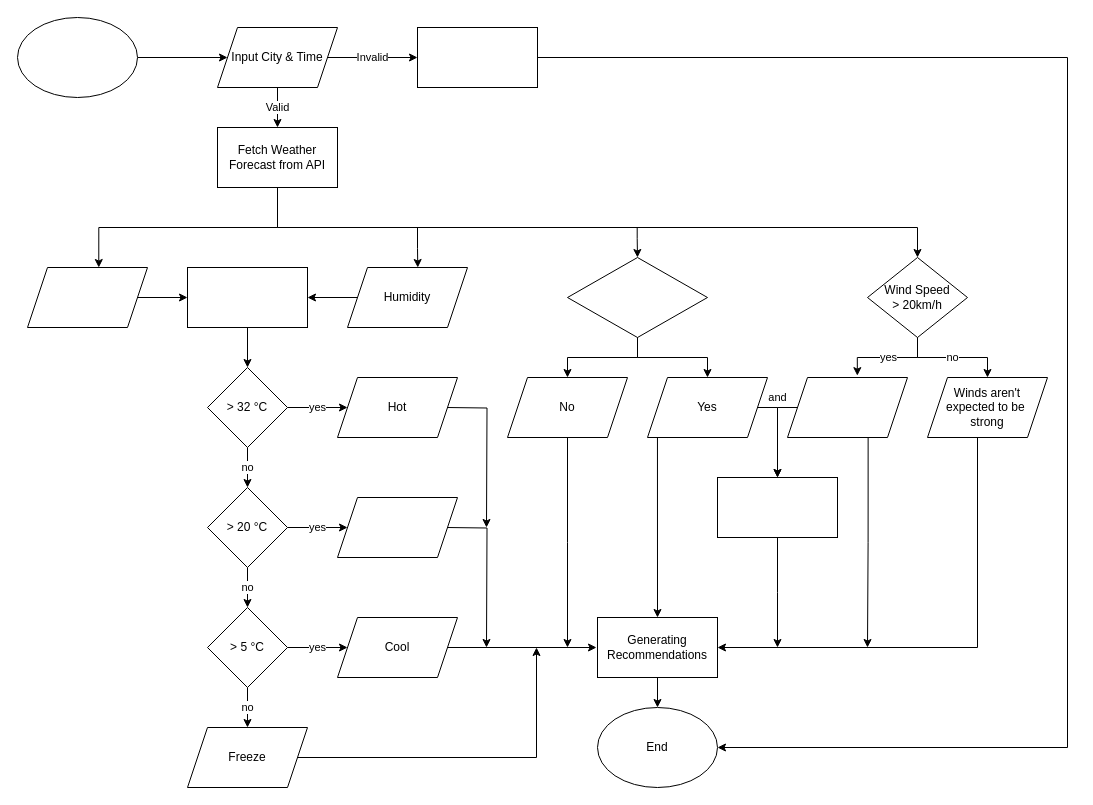
This 1093x805 diagram has some shape labels left out. Each missing label, with the centre of its shape:
"Error" goes at (x=477, y=57).
"Heat Index" goes at (x=247, y=297).
"Is There Any Chances of Rain?" goes at (x=637, y=297).
"Start" goes at (x=77, y=57).
"Storm" goes at (x=777, y=507).
"Temperature" goes at (x=87, y=297).
"Warm" goes at (x=397, y=527).
"Windy" goes at (x=847, y=407).
